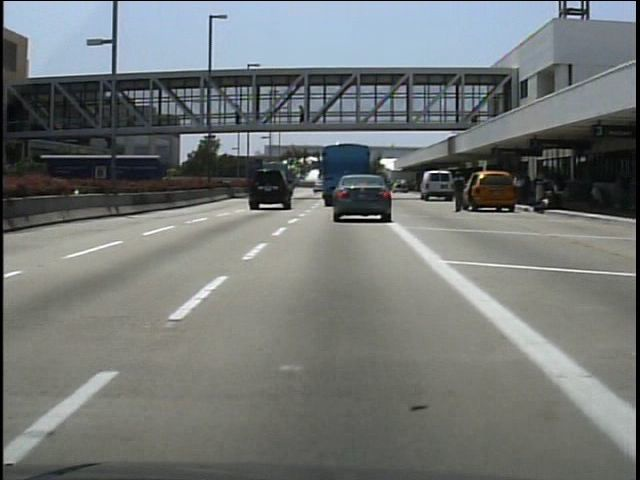person: (451, 172, 472, 218), (296, 103, 311, 129), (231, 102, 247, 126)
